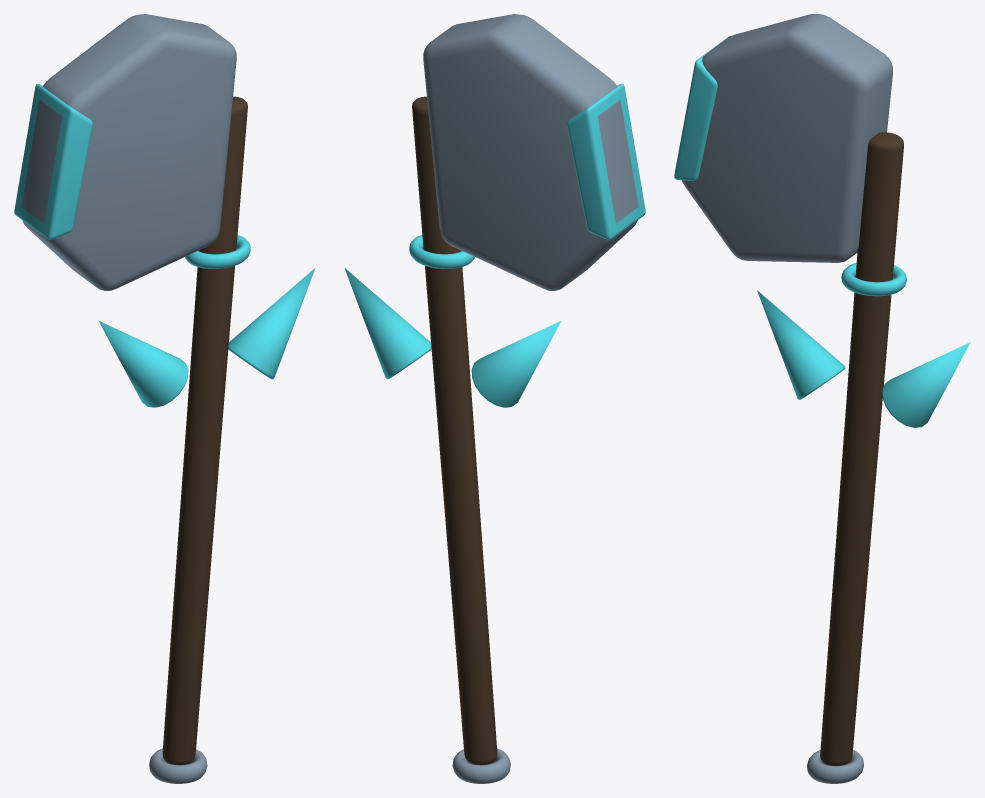
Rendered from axe_v4.glb.
The picture shows the model from 3 angles, left to right: view 1: azimuth 30°, elevation 25°; view 2: azimuth 150°, elevation 25°; view 3: azimuth 330°, elevation 25°; orthographic projection.
Visible parts, largest first — view 1: AXE_HEAD_PRIMARY, HAFT_SECONDARY, AXE_EDGE_ACCENT, SWEPT_FIN_ACCENT, SWEPT_FIN_ACCENT.001, AXE_POMMEL_PRIMARY, AXE_COLLAR_ACCENT; view 2: AXE_HEAD_PRIMARY, HAFT_SECONDARY, AXE_EDGE_ACCENT, SWEPT_FIN_ACCENT, SWEPT_FIN_ACCENT.001, AXE_POMMEL_PRIMARY, AXE_COLLAR_ACCENT; view 3: AXE_HEAD_PRIMARY, HAFT_SECONDARY, SWEPT_FIN_ACCENT.001, SWEPT_FIN_ACCENT, AXE_EDGE_ACCENT, AXE_POMMEL_PRIMARY, AXE_COLLAR_ACCENT.
Boxes of the visible parts, <box> form: AXE_HEAD_PRIMARY: <box>21,14,236,290</box>; HAFT_SECONDARY: <box>162,96,247,765</box>; AXE_EDGE_ACCENT: <box>14,83,92,239</box>; SWEPT_FIN_ACCENT: <box>98,320,188,407</box>; SWEPT_FIN_ACCENT.001: <box>228,268,315,379</box>; AXE_POMMEL_PRIMARY: <box>149,748,207,783</box>; AXE_COLLAR_ACCENT: <box>185,235,250,268</box>; AXE_HEAD_PRIMARY: <box>423,14,638,290</box>; HAFT_SECONDARY: <box>412,96,497,765</box>; AXE_EDGE_ACCENT: <box>567,83,645,239</box>; SWEPT_FIN_ACCENT: <box>471,320,561,407</box>; SWEPT_FIN_ACCENT.001: <box>344,268,431,379</box>; AXE_POMMEL_PRIMARY: <box>452,748,510,783</box>; AXE_COLLAR_ACCENT: <box>409,235,474,268</box>; AXE_HEAD_PRIMARY: <box>682,14,892,262</box>; HAFT_SECONDARY: <box>820,132,903,765</box>; SWEPT_FIN_ACCENT.001: <box>882,342,970,427</box>; SWEPT_FIN_ACCENT: <box>757,290,845,399</box>; AXE_EDGE_ACCENT: <box>674,36,729,181</box>; AXE_POMMEL_PRIMARY: <box>807,750,863,783</box>; AXE_COLLAR_ACCENT: <box>841,263,906,296</box>.
Bounding box in the file's own units: 1.74 × 4.42 × 0.3956.
